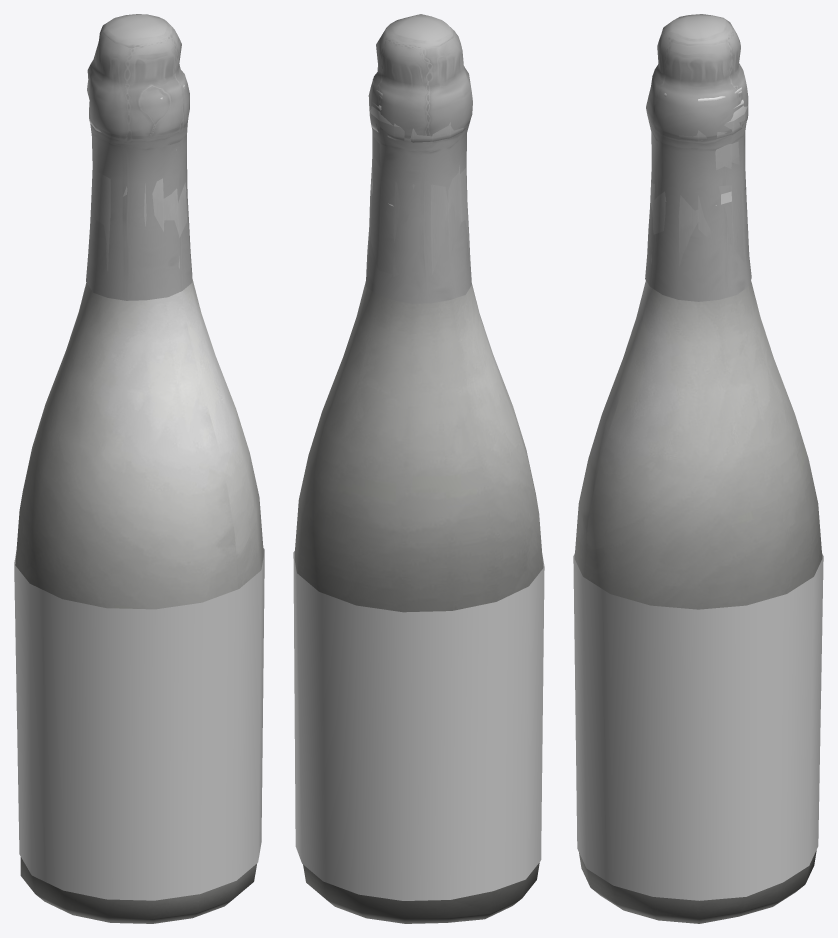
The model's file is Prova.glb.
The picture shows the model from 3 angles, left to right: view 1: azimuth 30°, elevation 25°; view 2: azimuth 150°, elevation 25°; view 3: azimuth 270°, elevation 25°; orthographic projection.
Visible parts, largest first — view 1: label, bottiglia, champagneAluminium, longWax; view 2: label, bottiglia, champagneAluminium, longWax; view 3: label, bottiglia, champagneAluminium, longWax.
Boxes of the visible parts, left/top/right/bottom form: label: left=14, top=548, right=264, bottom=900; bottiglia: left=15, top=279, right=263, bottom=923; champagneAluminium: left=86, top=14, right=192, bottom=300; longWax: left=89, top=87, right=186, bottom=271; label: left=293, top=551, right=544, bottom=900; bottiglia: left=294, top=281, right=543, bottom=923; champagneAluminium: left=365, top=14, right=472, bottom=303; longWax: left=369, top=91, right=469, bottom=276; label: left=573, top=553, right=823, bottom=900; bottiglia: left=574, top=280, right=822, bottom=923; champagneAluminium: left=645, top=14, right=751, bottom=301; longWax: left=650, top=89, right=749, bottom=266.
Size of the model in its own units: 0.0785 by 0.2934 by 0.0776.
8 materials, 5 textured.
